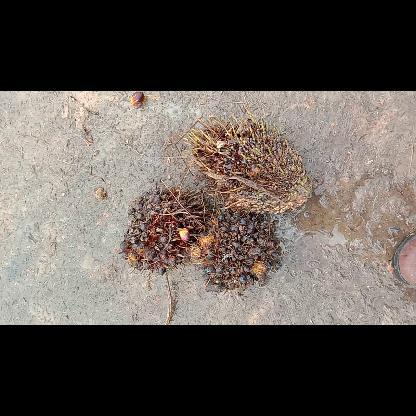TBS abnormal: (182, 113, 312, 213), (119, 184, 210, 274), (190, 209, 280, 288)
